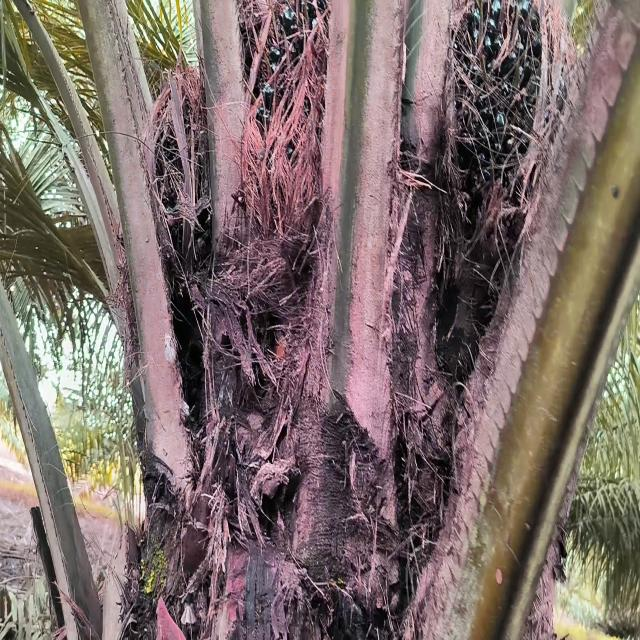palm-oil: (449, 0, 555, 262), (240, 0, 330, 215)
